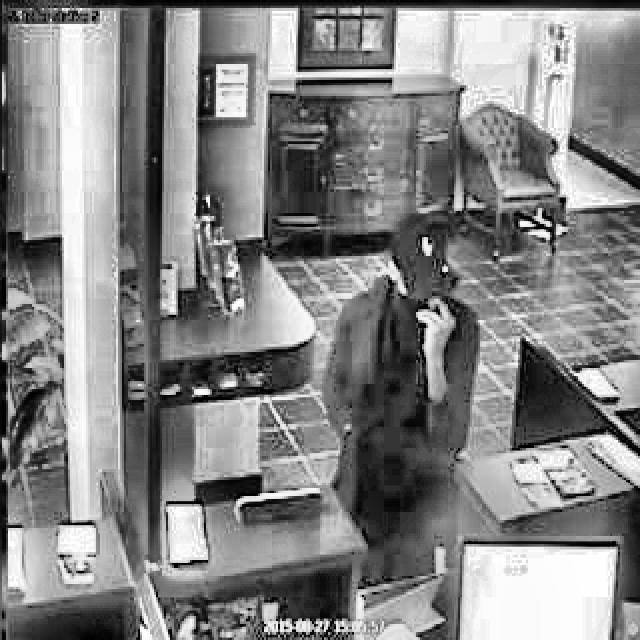robbery: (319, 225, 483, 578)
